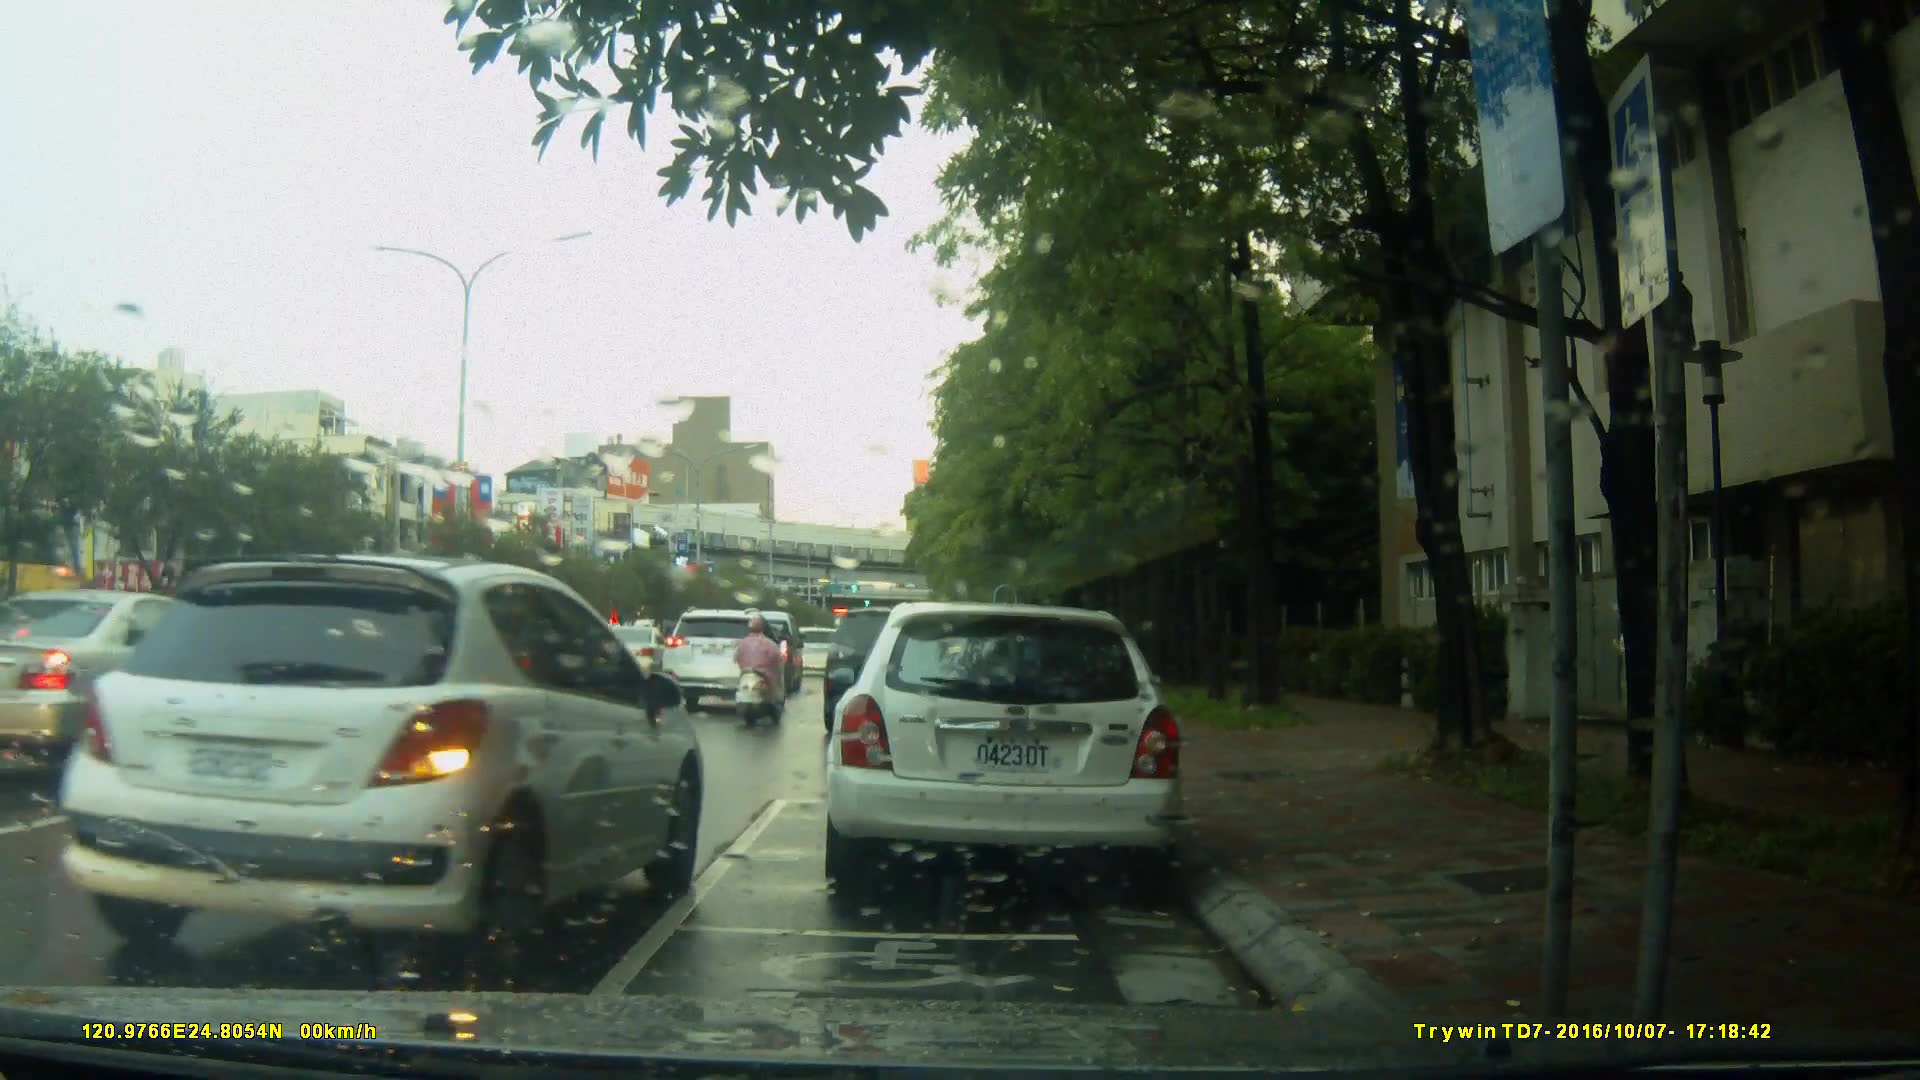rider: (729, 611, 782, 732)
vehicle: (56, 551, 704, 973), (820, 602, 1188, 898), (4, 588, 298, 775), (660, 608, 789, 716)
